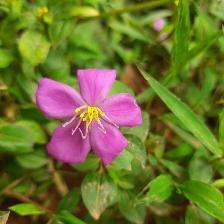malabar melastome: (36, 69, 146, 168)
